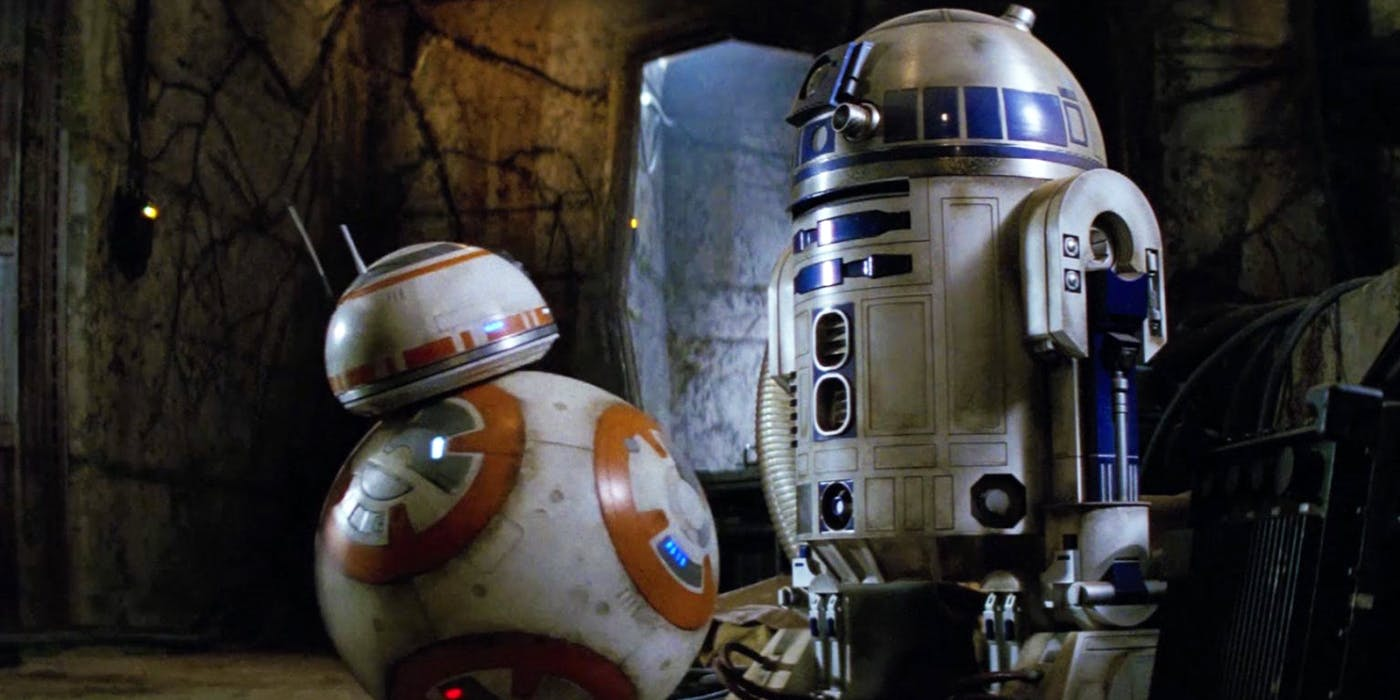r2d2: (731, 1, 1167, 691)
